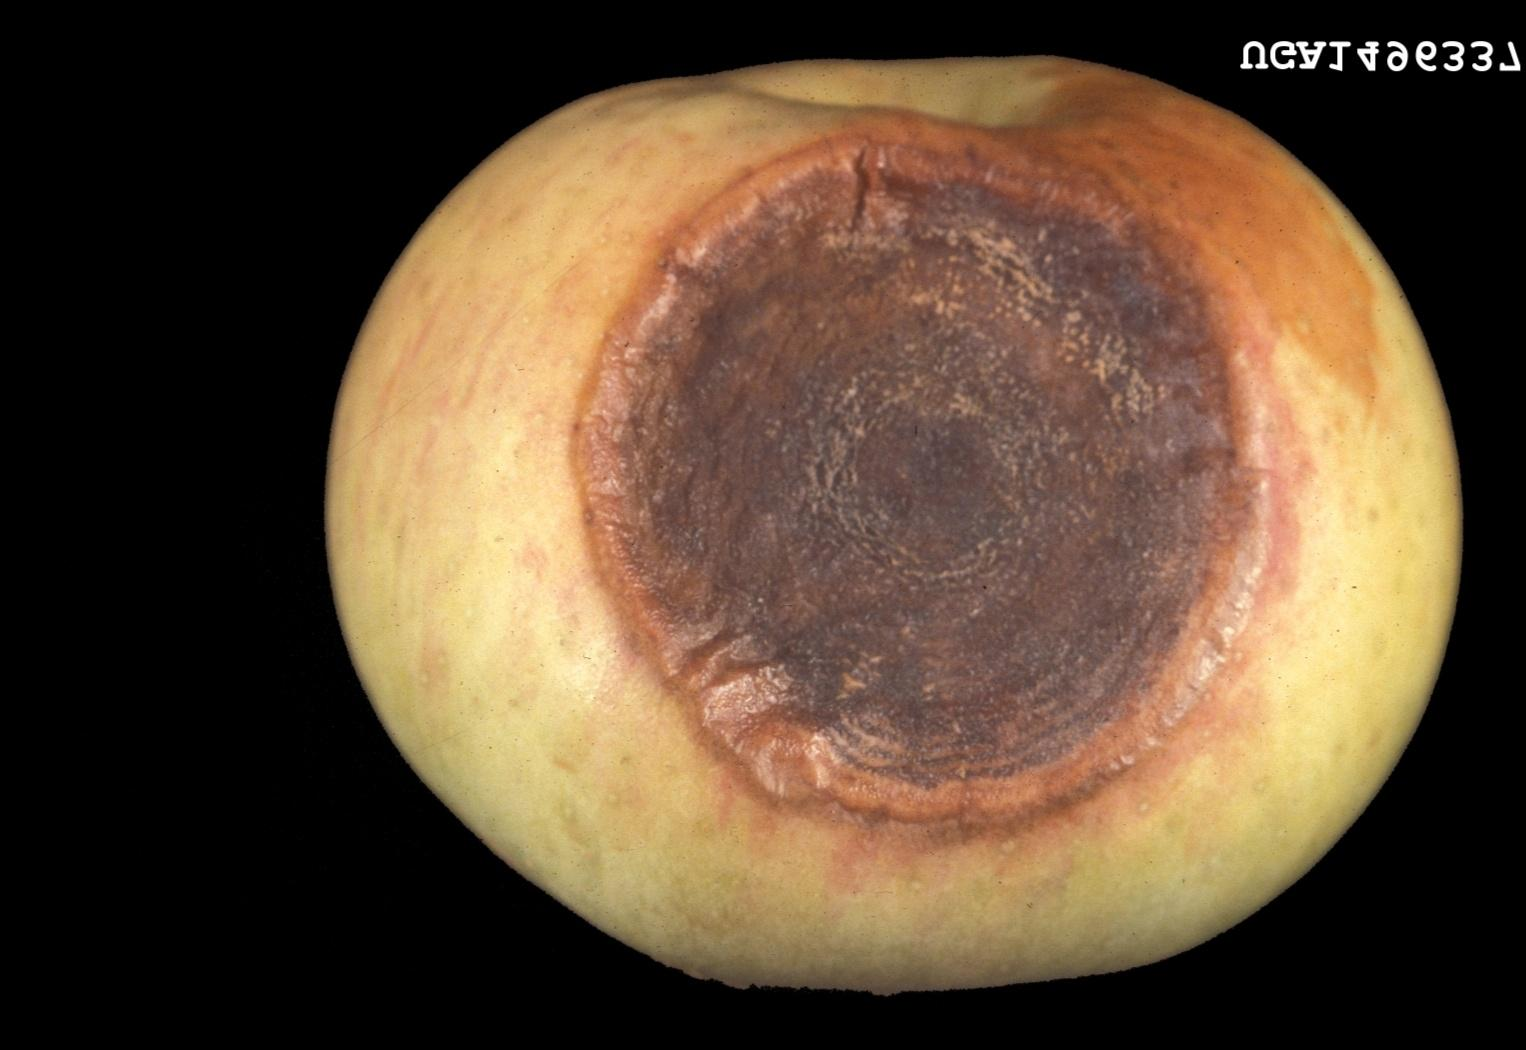rotten apple: (313, 51, 1466, 992)
